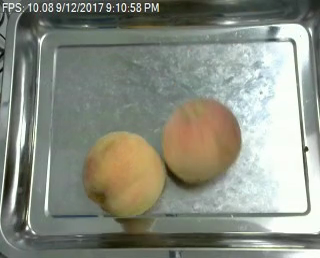Peach: (83, 129, 165, 218), (161, 97, 242, 184)
